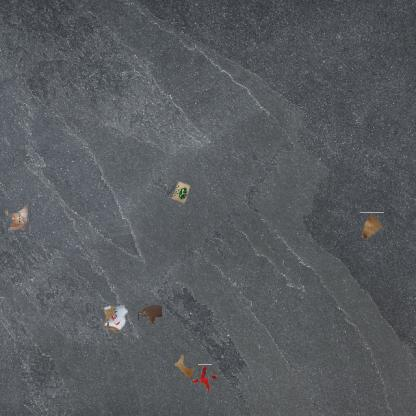dirty: (100, 303, 128, 333), (359, 214, 386, 240), (6, 207, 30, 231), (170, 181, 192, 205), (195, 368, 216, 388)
liquid: (172, 354, 196, 376), (138, 304, 162, 324)
